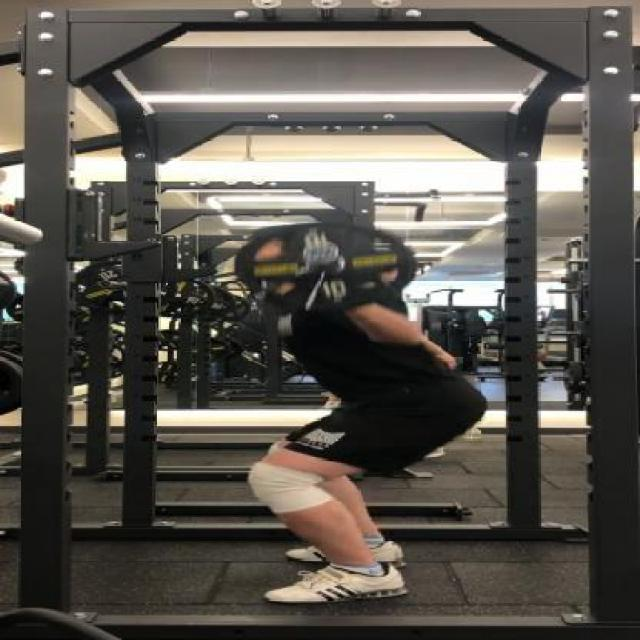Barbell: (297, 240, 352, 268)
